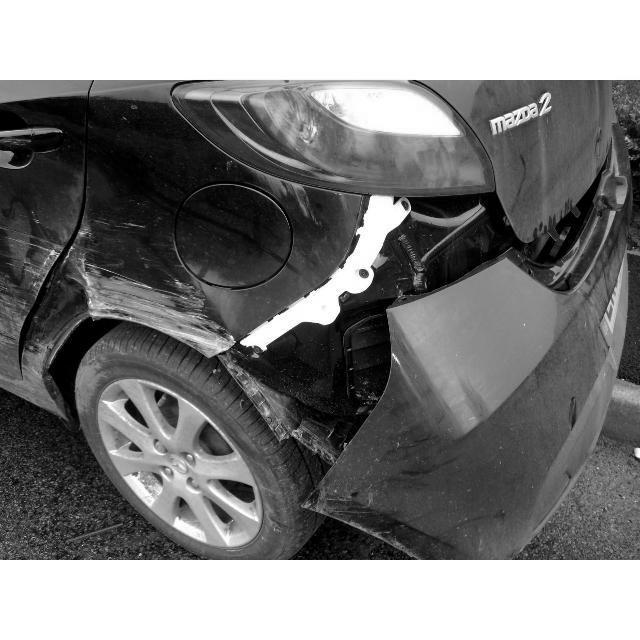quaterpanel-dent: (77, 80, 393, 402)
rear-bumper-dent: (387, 225, 639, 510)
